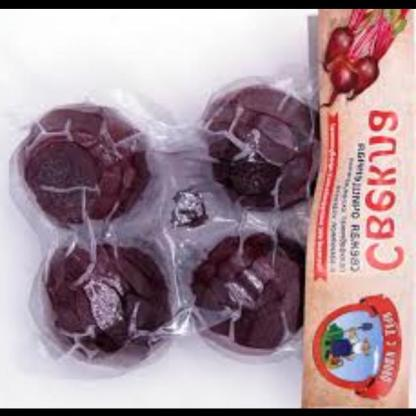beet: (15, 100, 156, 228), (192, 224, 318, 363), (44, 243, 180, 371), (206, 87, 330, 211)
